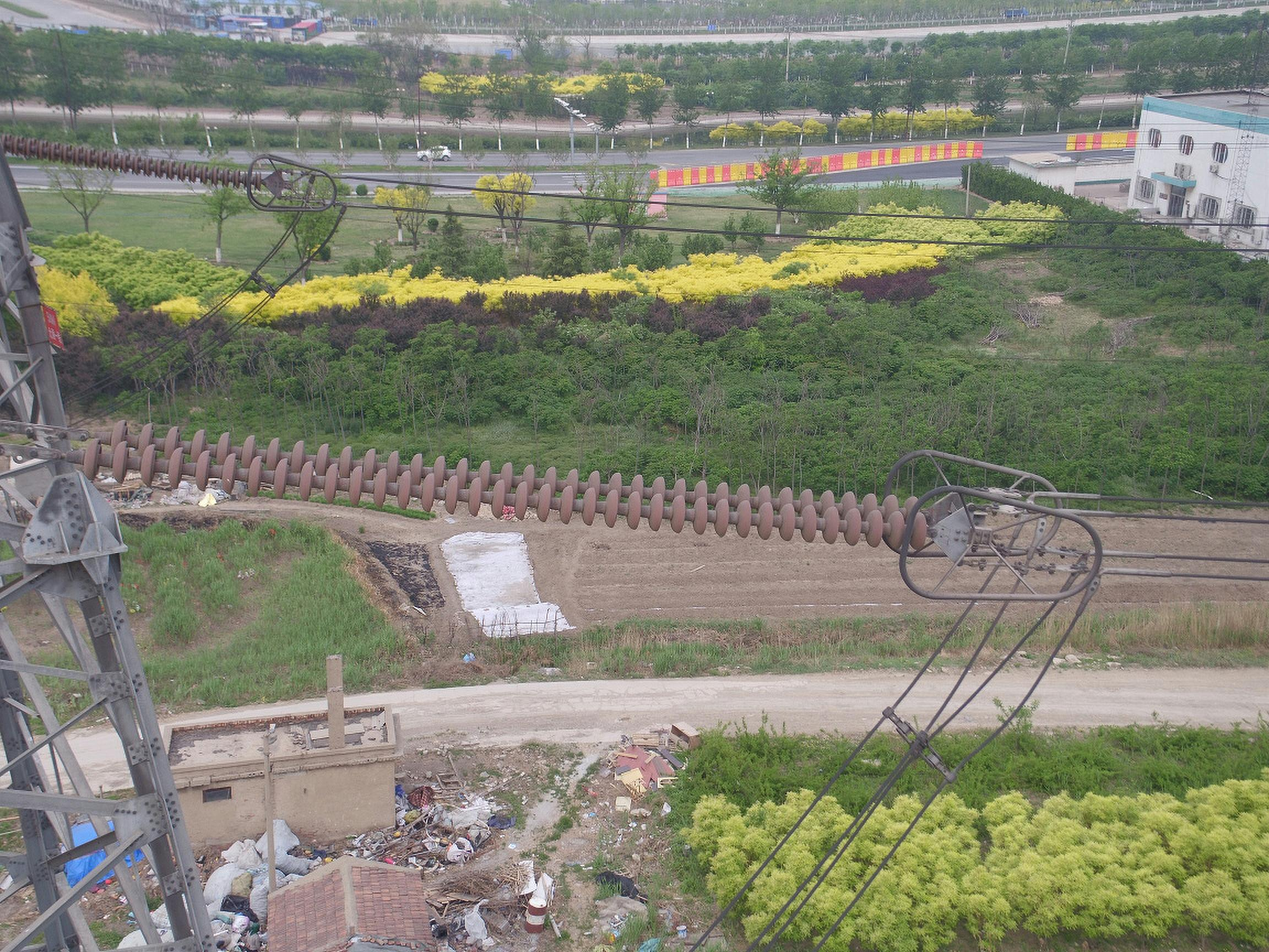insulator: (77, 414, 932, 555), (1, 132, 264, 192)
